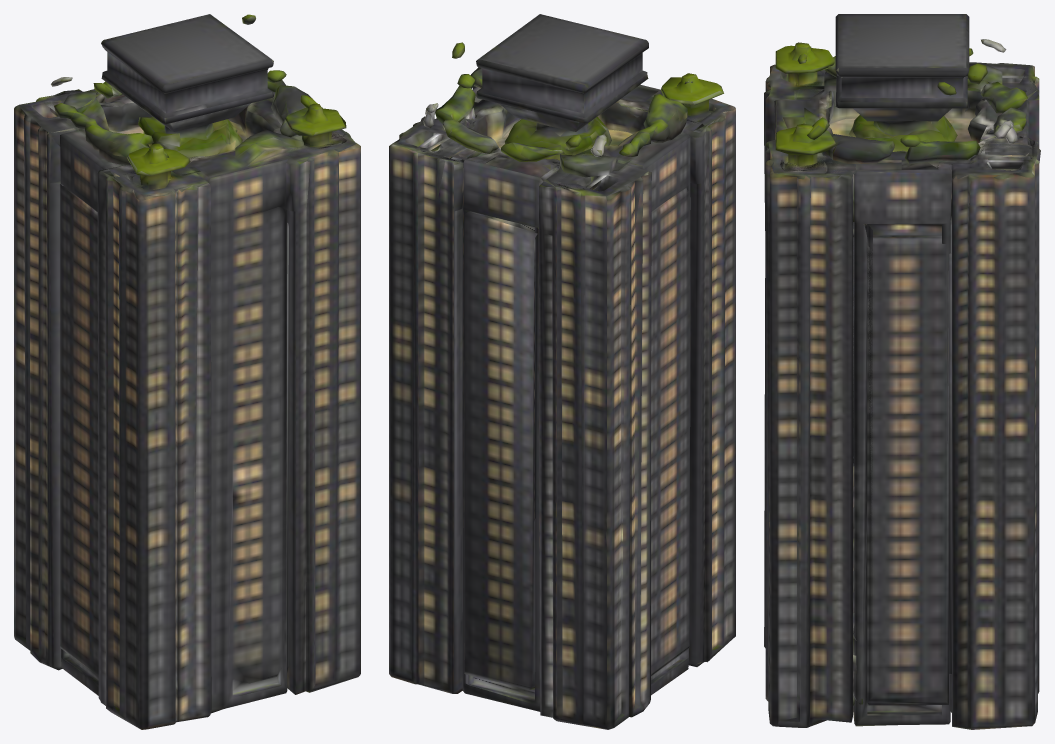
The model's file is skyscraper_medium_2.glb.
3 renders of one model, left to right at view 1: azimuth 30°, elevation 25°; view 2: azimuth 150°, elevation 25°; view 3: azimuth 270°, elevation 25°, orthographic. The views are drawn at different scales.
Bounding box in the file's own units: 0.7515 × 1.91 × 0.7554.
1 material, 1 textured.
